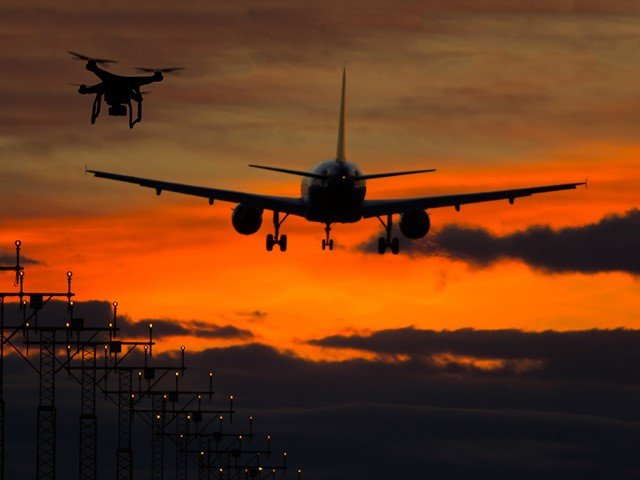drone: (62, 42, 188, 135)
